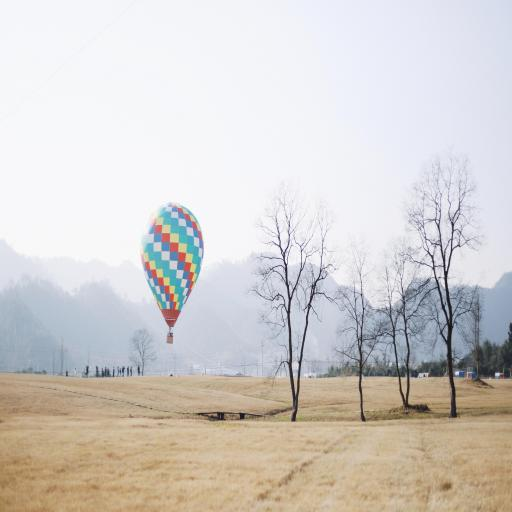hot air ballon: (140, 202, 205, 344)
